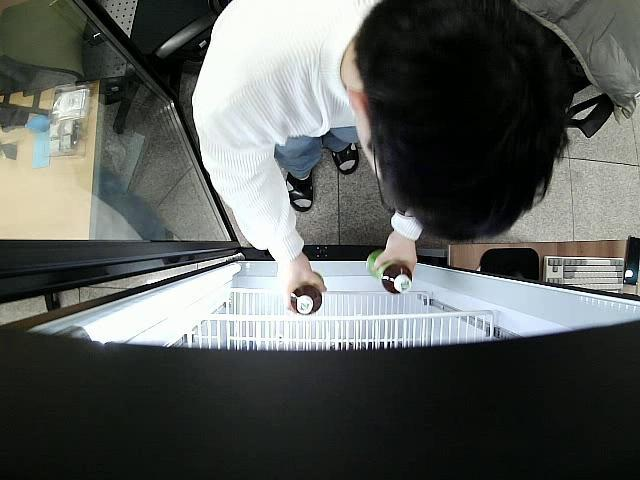19_17cha: (366, 252, 412, 295), (290, 272, 326, 316)
